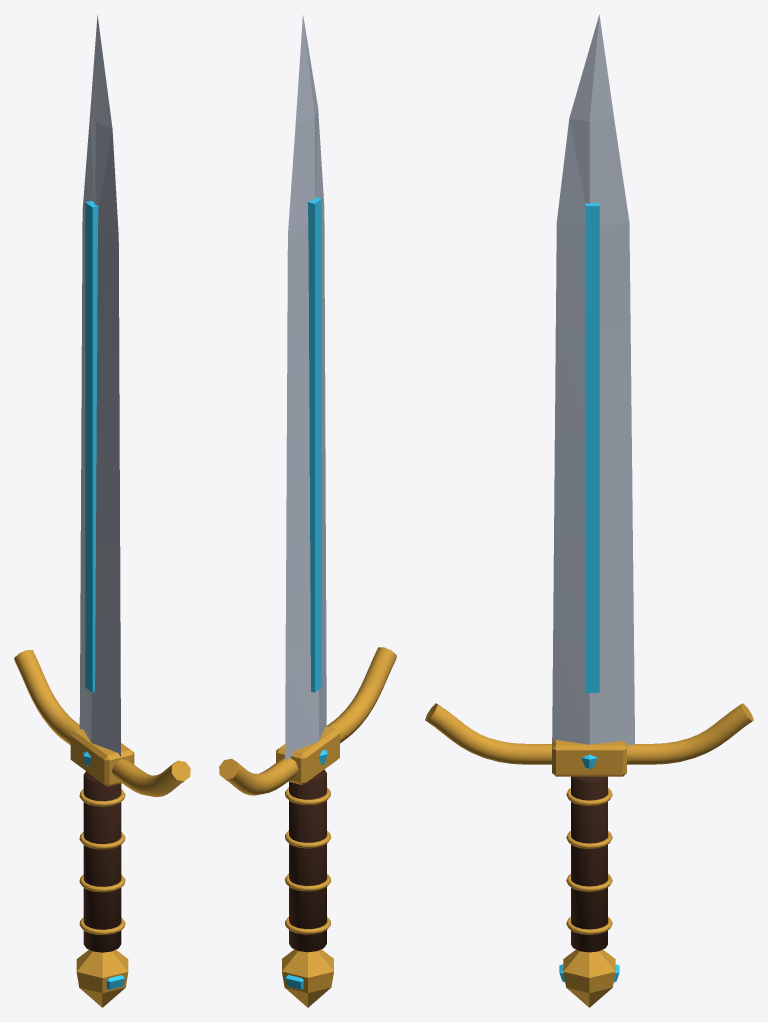
Rendered from melee_greatsword.obj.
3 views of the same model, side by side, from view 1: azimuth 30°, elevation 25°; view 2: azimuth 150°, elevation 25°; view 3: azimuth 270°, elevation 25° (orthographic).
Visible parts, largest first — view 1: Blade, RuneFuller, Grip, GuardF, Pommel, GuardB, GuardHub; view 2: Blade, RuneFuller, Grip, GuardB, Pommel, GuardF, GuardHub; view 3: Blade, RuneFuller, Grip, GuardB, GuardF, GuardHub, Pommel.
Boxes of the visible parts, x1,y1,x2,y2 form: Blade: (79,15,120,756); RuneFuller: (85,200,98,692); Grip: (83,771,121,952); GuardF: (14,650,79,745); Pommel: (76,950,128,1007); GuardB: (111,759,190,797); GuardHub: (70,729,134,786); Blade: (285,15,326,759); RuneFuller: (307,197,321,692); Grip: (289,769,326,952); GuardB: (326,647,396,743); Pommel: (282,949,333,1007); GuardF: (219,758,298,795); GuardHub: (276,726,339,785); Blade: (552,14,634,745); RuneFuller: (585,202,599,692); Grip: (571,776,607,952); GuardB: (425,703,551,764); GuardF: (627,703,753,764); GuardHub: (552,737,626,776); Pommel: (563,949,615,1007).
Bounding box in the file's own units: 0.076 × 1.39 × 0.4163.
